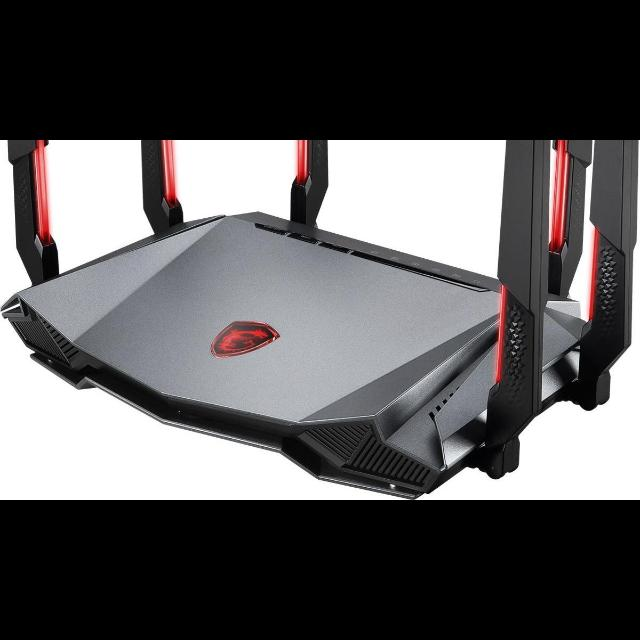Router: (0, 140, 640, 501)
